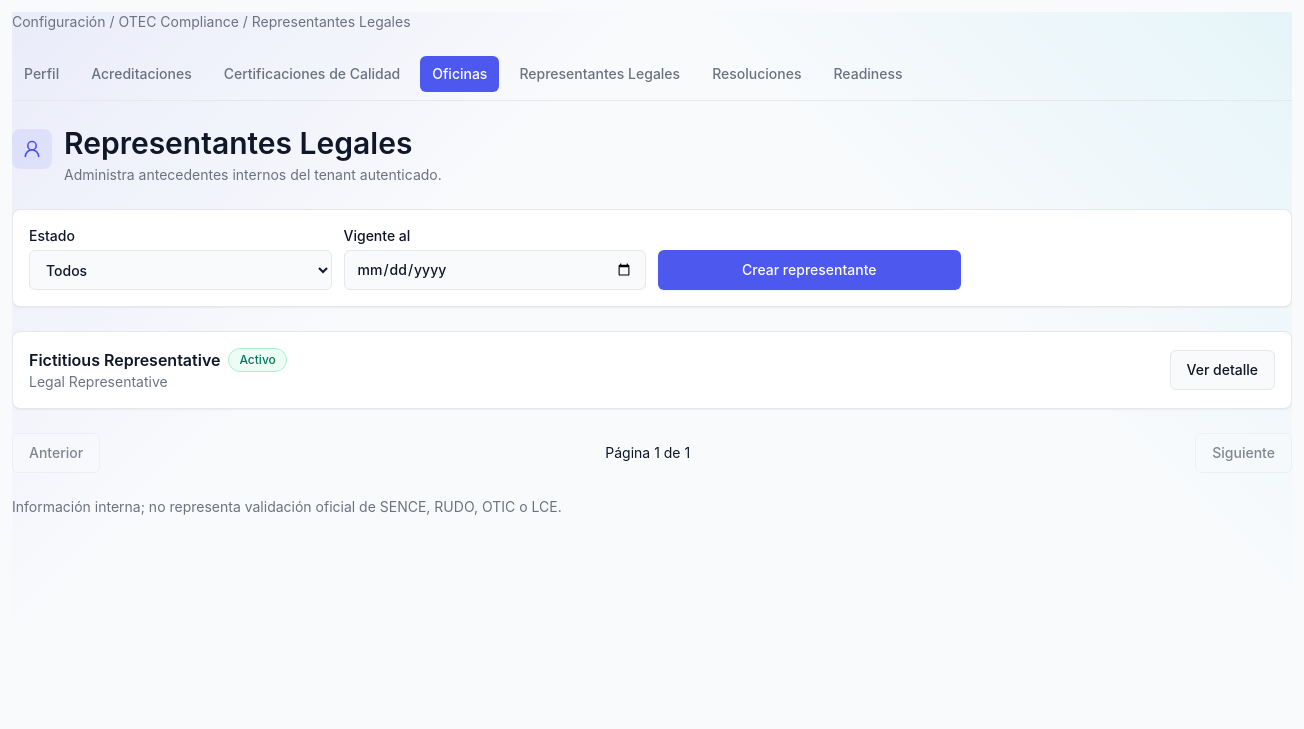
OTEC administrative pages › lists representatives without exposing full tax ID
What coordinates should you click on to do the following:
click the button "Ver detalle"
I would click on:
 (1222, 370)
Its box is 1170,350 -> 1275,390.
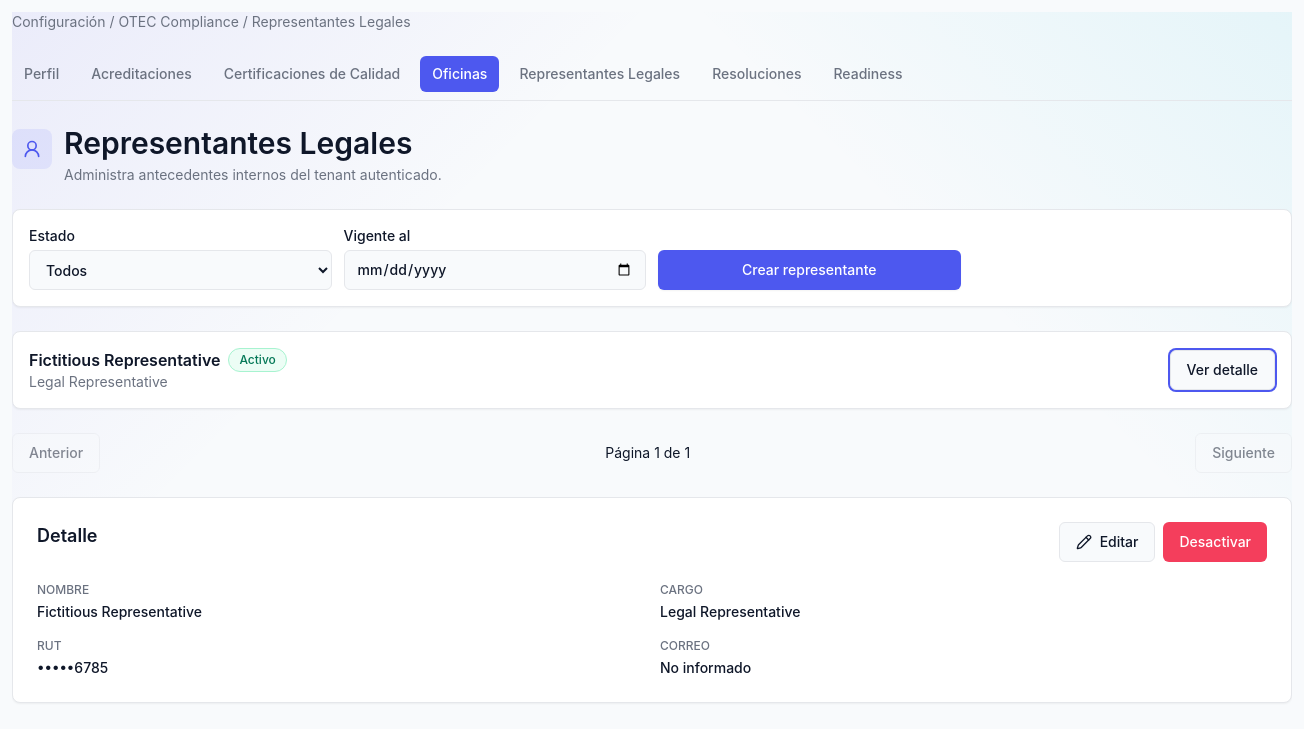
Now the text "•••••6785" is shown, box 37,659 -> 108,676
